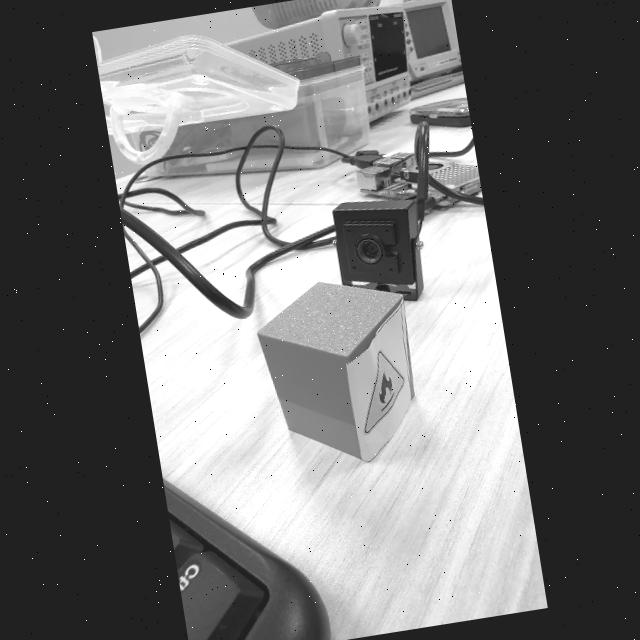Fire: (364, 351, 403, 433)
